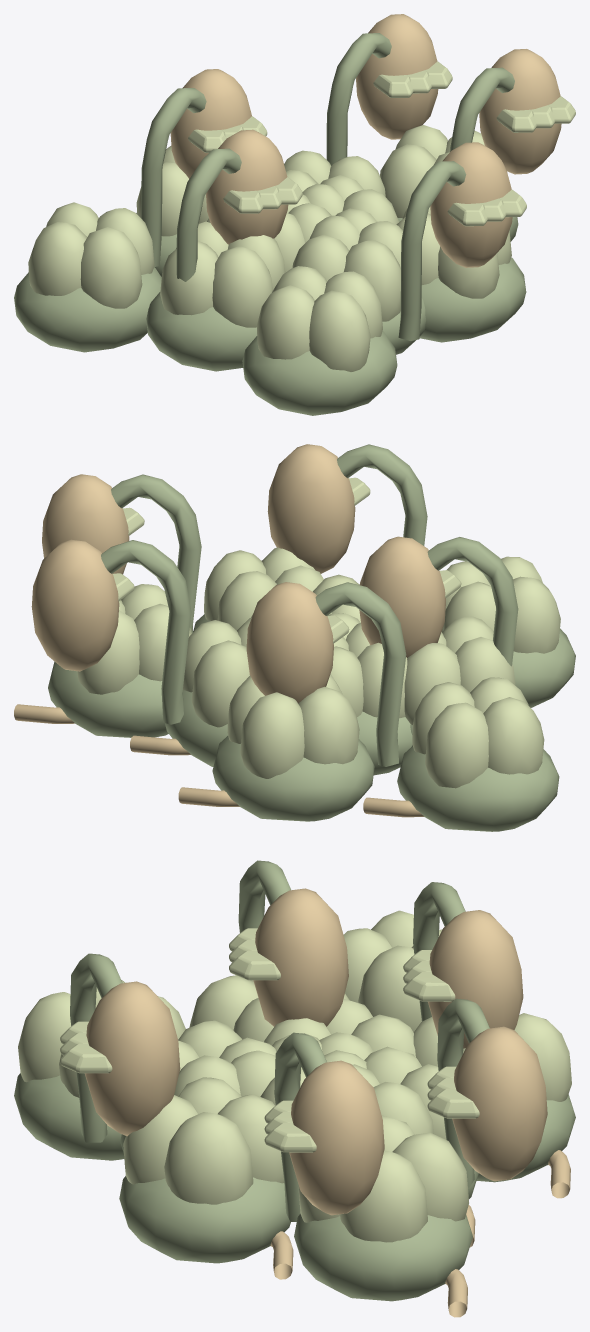
Rendered from bio_oxygen_reef_03_far.glb.
The picture shows the model from 3 angles, top to bottom: view 1: azimuth 30°, elevation 25°; view 2: azimuth 150°, elevation 25°; view 3: azimuth 270°, elevation 25°; orthographic projection. The views are drawn at different scales.
Visible parts, largest first — view 1: Lobed gas sac.028, Lobed gas sac.036, Lobed gas sac.016, Photosynthetic cushion.007, Photosynthetic cushion.009, Pendant spore capsule.002, Lobed gas sac.008, Pendant spore capsule.003, Pendant spore capsule, Pendant spore capsule.004, Photosynthetic cushion.004, Photosynthetic cushion.005 (+18 smaller); view 2: Lobed gas sac.036, Lobed gas sac.024, Pendant spore capsule.003, Pendant spore capsule.002, Pendant spore capsule.001, Photosynthetic cushion.009, Photosynthetic cushion.006, Pendant spore capsule.004, Lobed gas sac.028, Lobed gas sac.032, Lobed gas sac.016, Photosynthetic cushion.008 (+17 smaller); view 3: Lobed gas sac.020, Pendant spore capsule, Pendant spore capsule.003, Pendant spore capsule.002, Photosynthetic cushion.008, Lobed gas sac.032, Photosynthetic cushion.005, Pendant spore capsule.004, Pendant spore capsule.001, Lobed gas sac.036, Photosynthetic cushion.007, Lobed gas sac.012 (+20 smaller).
Part boxes in pixels (x1,y1,x2,y2): Lobed gas sac.028: (256, 266, 382, 371); Lobed gas sac.036: (28, 202, 154, 308); Lobed gas sac.016: (160, 221, 285, 327); Photosynthetic cushion.007: (242, 331, 397, 415); Photosynthetic cushion.009: (14, 267, 161, 352); Pendant spore capsule.002: (430, 142, 512, 267); Lobed gas sac.008: (292, 215, 402, 321); Pendant spore capsule.003: (356, 14, 438, 139); Pendant spore capsule: (479, 49, 561, 174); Pendant spore capsule.004: (206, 129, 288, 244); Photosynthetic cushion.004: (146, 292, 257, 371); Photosynthetic cushion.005: (419, 257, 526, 342); Lobed gas sac.036: (412, 677, 544, 788); Lobed gas sac.024: (227, 674, 359, 778); Pendant spore capsule.003: (31, 539, 119, 671); Pendant spore capsule.002: (267, 444, 355, 573); Pendant spore capsule.001: (246, 582, 333, 703); Photosynthetic cushion.009: (397, 746, 559, 831); Photosynthetic cushion.006: (212, 736, 374, 821); Pendant spore capsule.004: (359, 536, 445, 657); Lobed gas sac.028: (441, 556, 560, 653); Lobed gas sac.032: (77, 584, 191, 694); Lobed gas sac.016: (404, 616, 515, 724); Photosynthetic cushion.008: (48, 661, 168, 737); Lobed gas sac.020: (123, 1077, 284, 1204); Pendant spore capsule: (289, 1060, 384, 1215); Pendant spore capsule.003: (452, 1026, 547, 1181); Pendant spore capsule.002: (84, 981, 180, 1136); Photosynthetic cushion.008: (294, 1214, 472, 1301); Lobed gas sac.032: (298, 1115, 468, 1242); Photosynthetic cushion.005: (119, 1176, 290, 1263); Pendant spore capsule.004: (253, 888, 348, 1026); Pendant spore capsule.001: (428, 910, 523, 1048); Lobed gas sac.036: (343, 910, 442, 1032); Photosynthetic cushion.007: (14, 1073, 124, 1160); Lobed gas sac.012: (352, 1046, 446, 1139).
Bounding box in the file's own units: 1.92 × 0.7758 × 1.51.
